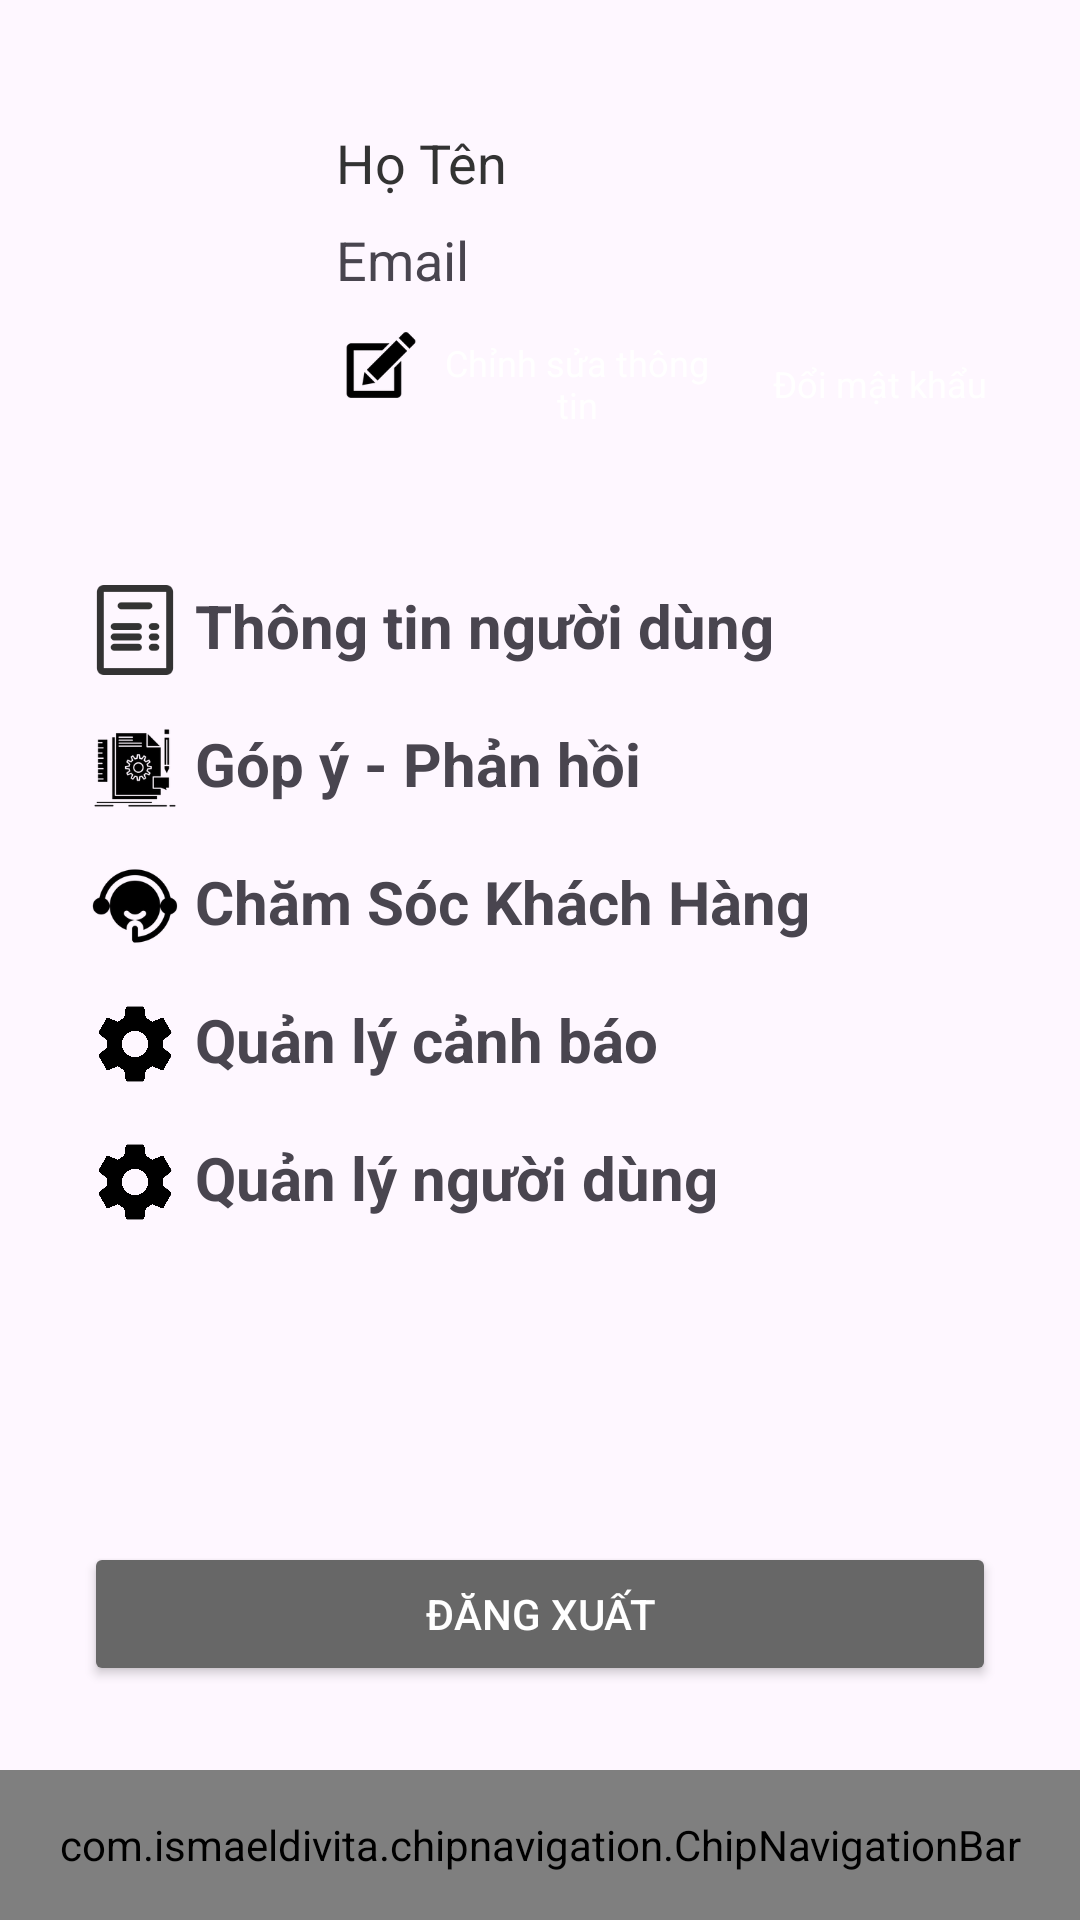

Where to tap for icons on this 1080 x 1920 app screen, as (x,y):
care: (134,906)
edit: (381,365)
info: (135,630)
setting: (135,1044), (135,1182)
